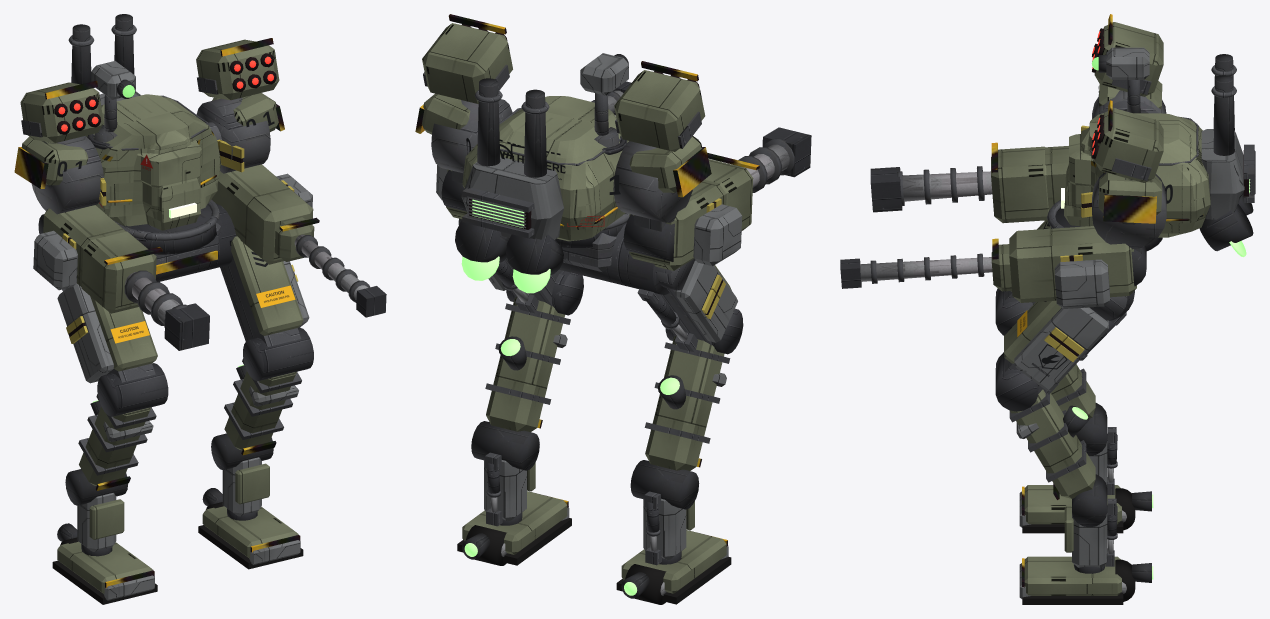
File: mech_harrow.glb
3 renders of one model, left to right at view 1: azimuth 30°, elevation 25°; view 2: azimuth 150°, elevation 25°; view 3: azimuth 270°, elevation 25°, orthographic. The views are drawn at different scales.
Parts seen in each view (by area): view 1: CHEST_canopy_1_harrow_armor.001, cockpit_harrow_armor.001, forearm_L_harrow_armor.001, shoulder_R_harrow_armor.001, shoulder_L_harrow_armor.001, hand_R_harrow_armor.001, thigh_L_harrow_armor.001, shoulder_R_harrow_frame.001, shoulder_L_harrow_frame.001, thigh_R_harrow_armor2.001, shin_R_harrow_dark.001, shin_L_harrow_dark.001 (+46 smaller); view 2: cockpit_harrow_armor.001, cockpit_harrow_dark.001, shoulder_R_harrow_armor.001, shoulder_L_harrow_armor.001, shin_R_harrow_armor.001, shin_L_harrow_armor.001, cockpit_harrow_armor2.001, shoulder_R_harrow_frame.001, cockpit_harrow_frame.001, hock_L_harrow_dark.001, hock_R_harrow_dark.001, shoulder_L_harrow_frame.001 (+34 smaller); view 3: forearm_L_harrow_armor.001, cockpit_harrow_armor.001, shoulder_L_harrow_armor.001, hand_R_harrow_armor.001, thigh_L_harrow_armor2.001, shin_L_harrow_armor.001, cockpit_harrow_dark.001, foot_L_harrow_armor.001, shoulder_L_harrow_frame.001, cockpit_harrow_armor2.001, shoulder_R_harrow_armor.001, forearm_L_harrow_armor2.001 (+27 smaller).
Boxes of the visible parts, x1,y1,x2,y2 form: CHEST_canopy_1_harrow_armor.001: [96, 110, 219, 188]; cockpit_harrow_armor.001: [85, 94, 221, 230]; forearm_L_harrow_armor.001: [211, 164, 313, 264]; shoulder_R_harrow_armor.001: [20, 82, 103, 185]; shoulder_L_harrow_armor.001: [196, 39, 279, 131]; hand_R_harrow_armor.001: [81, 231, 156, 313]; thigh_L_harrow_armor.001: [231, 236, 303, 335]; shoulder_R_harrow_frame.001: [21, 120, 103, 214]; shoulder_L_harrow_frame.001: [196, 77, 270, 173]; thigh_R_harrow_armor2.001: [57, 283, 113, 383]; shin_R_harrow_dark.001: [90, 363, 168, 416]; shin_L_harrow_dark.001: [236, 327, 313, 381]; cockpit_harrow_armor.001: [462, 110, 625, 241]; cockpit_harrow_dark.001: [455, 78, 563, 275]; shoulder_R_harrow_armor.001: [614, 70, 705, 192]; shoulder_L_harrow_armor.001: [421, 23, 512, 134]; shin_R_harrow_armor.001: [645, 335, 724, 470]; shin_L_harrow_armor.001: [486, 297, 564, 431]; cockpit_harrow_armor2.001: [461, 156, 563, 239]; shoulder_R_harrow_frame.001: [613, 111, 701, 231]; cockpit_harrow_frame.001: [462, 90, 621, 238]; hock_L_harrow_dark.001: [471, 421, 539, 497]; hock_R_harrow_dark.001: [630, 460, 699, 536]; shoulder_L_harrow_frame.001: [423, 64, 512, 182]; forearm_L_harrow_armor.001: [1009, 226, 1136, 302]; cockpit_harrow_armor.001: [1064, 113, 1210, 237]; shoulder_L_harrow_armor.001: [1094, 108, 1163, 215]; hand_R_harrow_armor.001: [991, 146, 1048, 223]; thigh_L_harrow_armor2.001: [1014, 307, 1108, 390]; shin_L_harrow_armor.001: [1010, 389, 1095, 498]; cockpit_harrow_dark.001: [1199, 54, 1253, 251]; foot_L_harrow_armor.001: [1024, 556, 1121, 595]; shoulder_L_harrow_frame.001: [1092, 158, 1166, 253]; cockpit_harrow_armor2.001: [1201, 129, 1244, 219]; shoulder_R_harrow_armor.001: [1094, 22, 1163, 109]; forearm_L_harrow_armor2.001: [1054, 259, 1109, 308].
Bounding box in the file's own units: 13.3 × 24.01 × 18.39.
14 materials, 8 textured.
